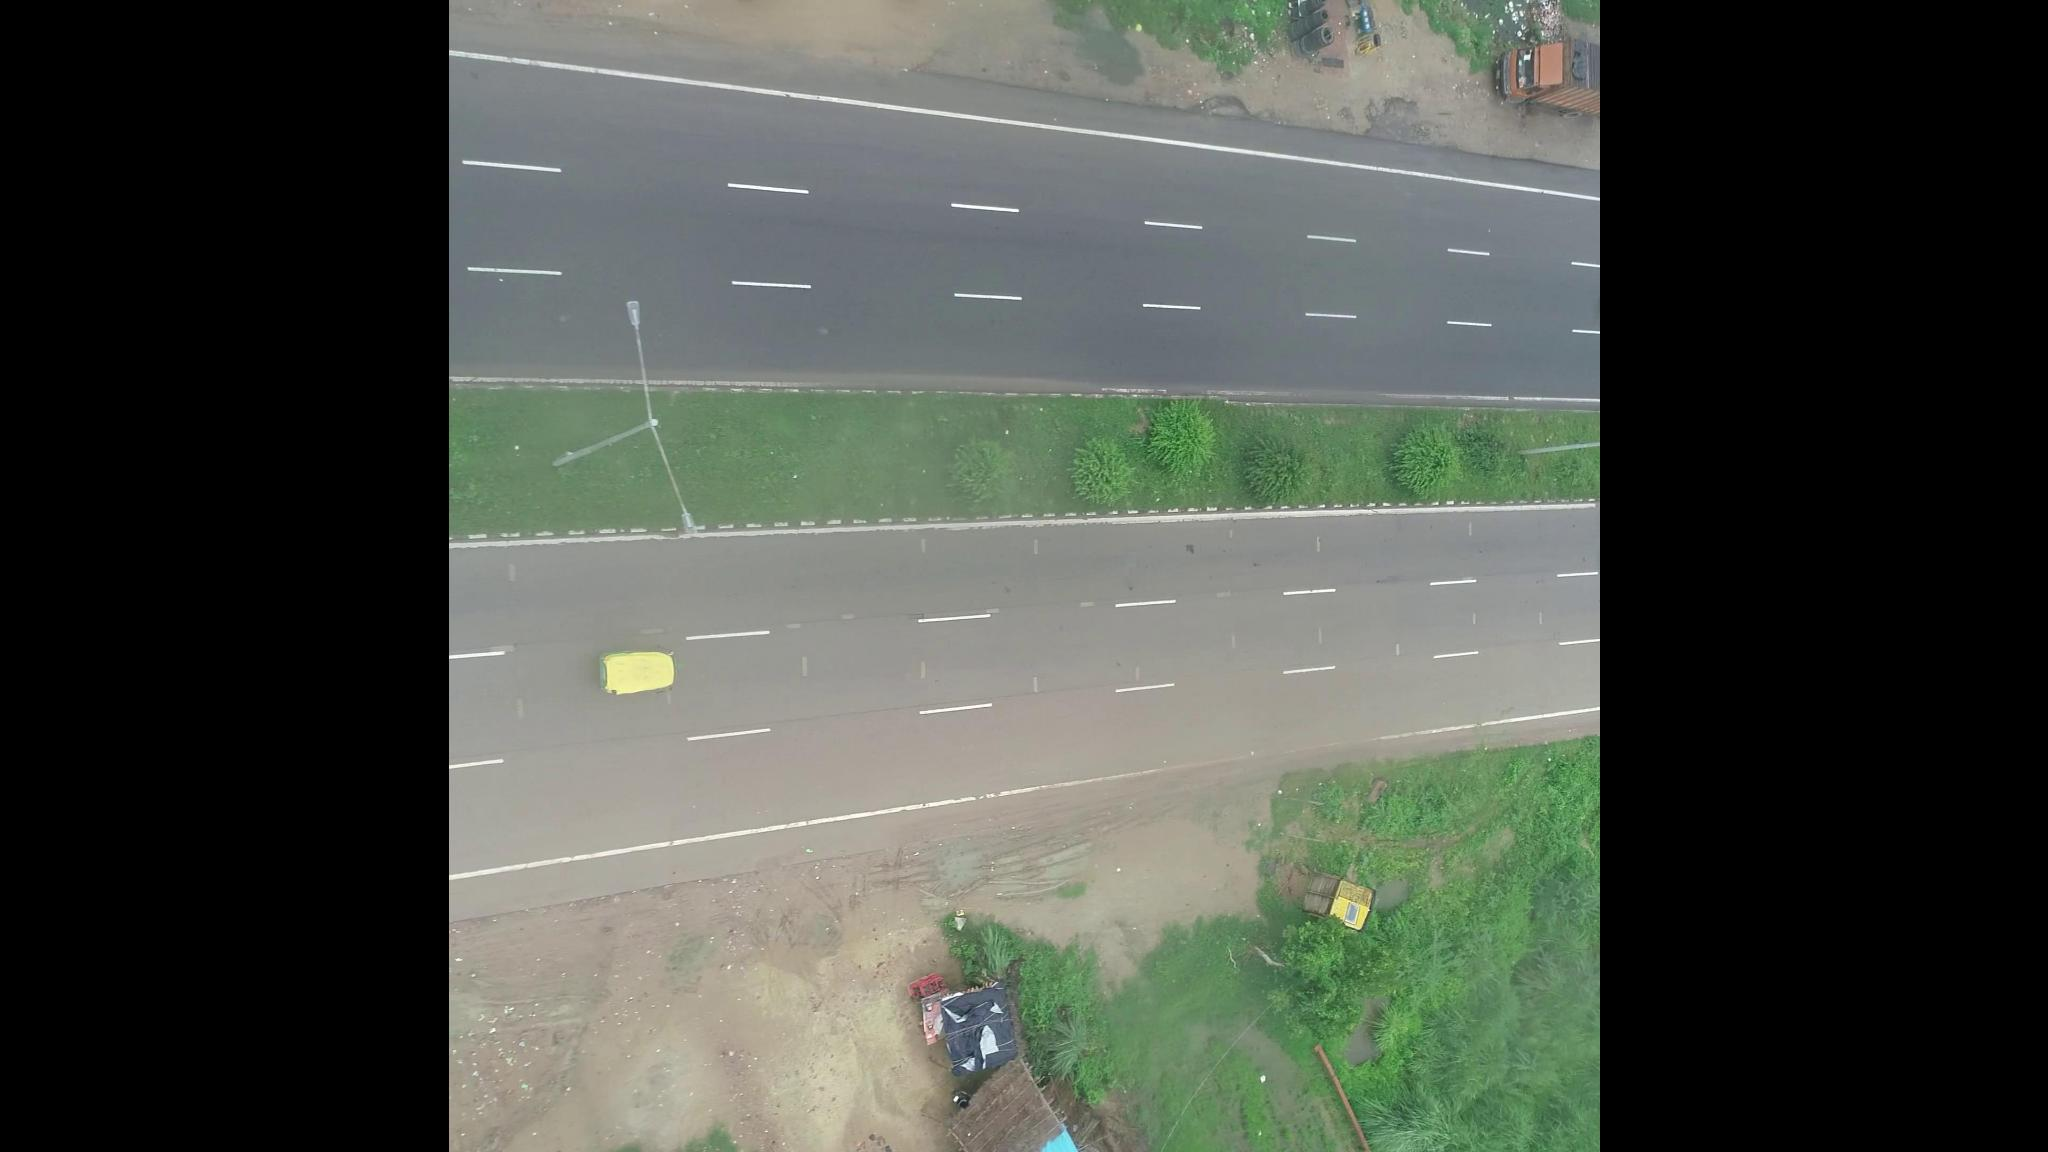Muddy_road: (934, 689, 1297, 795)
